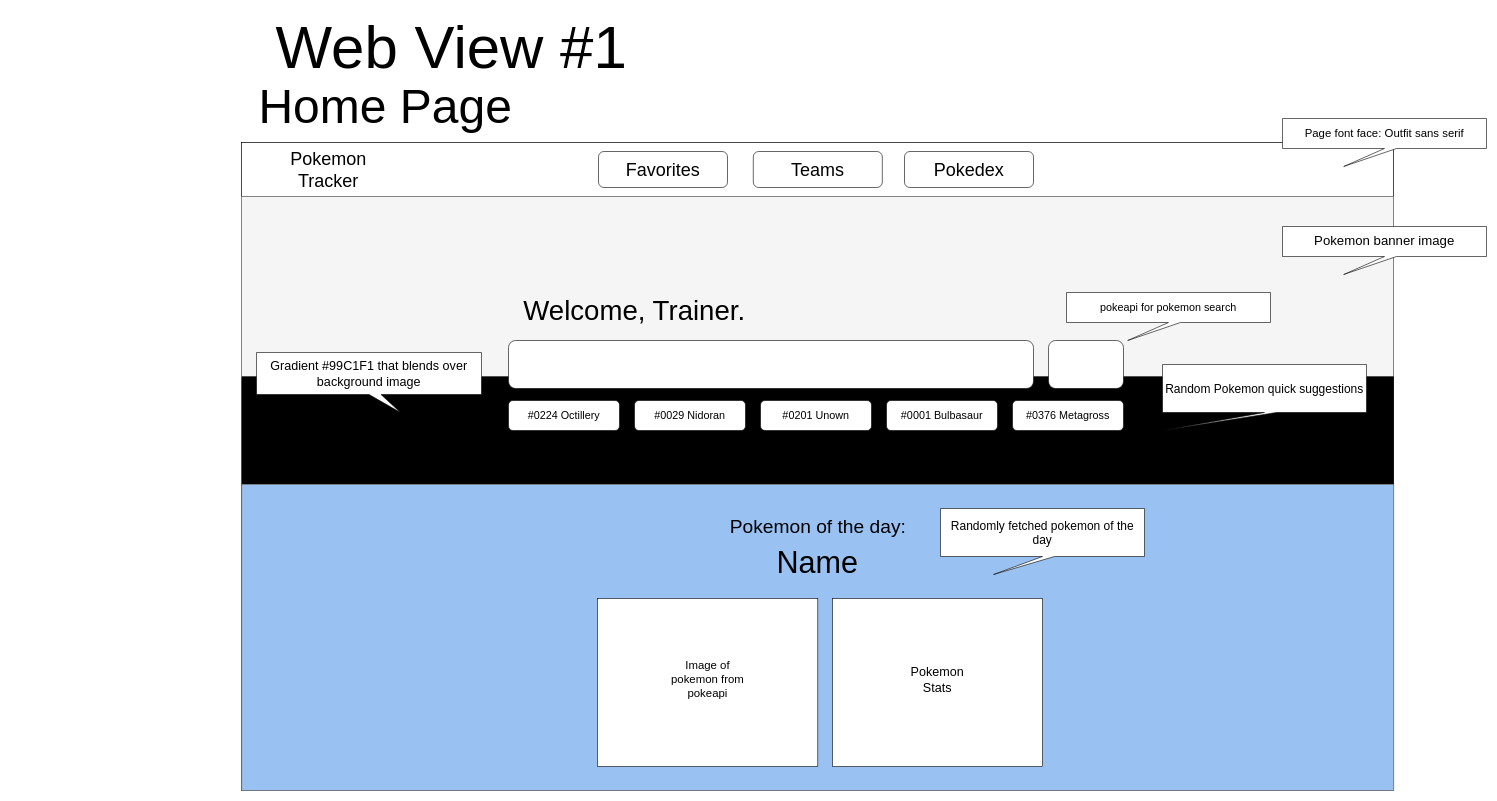
The diagram is 1497 pixels wide and 801 high, and some of its shapes have lost their labels. The centre of each missing label's shape, as x and y in pixels:
"GO" goes at [1086,364].
"search for pokemon or game..." goes at [771,364].
